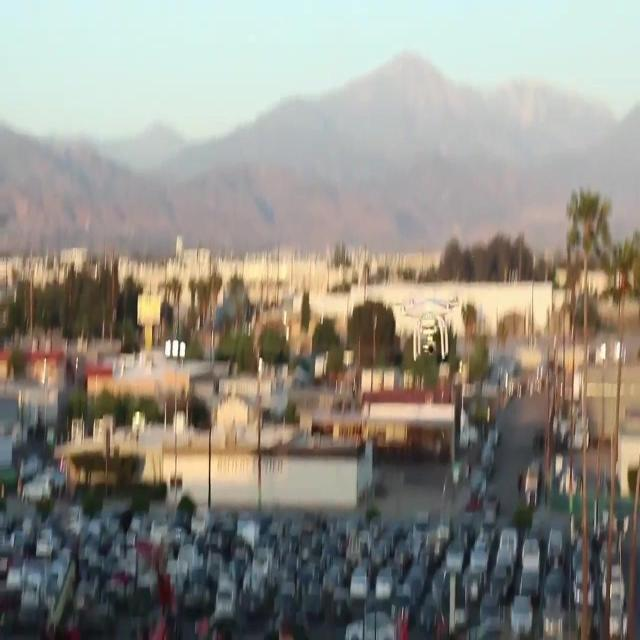drone: (396, 292, 463, 365)
